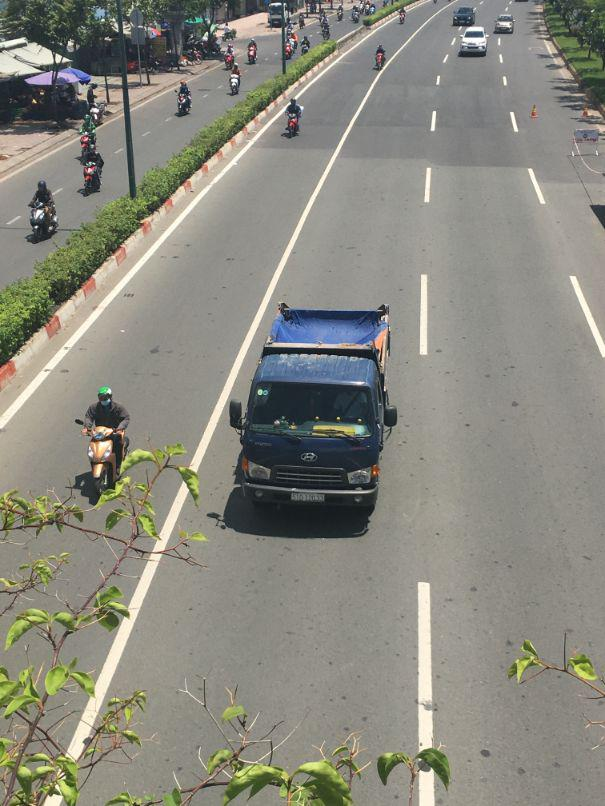car: (460, 27, 489, 58), (452, 8, 474, 27), (494, 15, 513, 35)
motorbike: (76, 145, 103, 197), (27, 203, 59, 243), (284, 103, 304, 138), (228, 69, 240, 95), (248, 42, 257, 66)
truck: (234, 304, 393, 534)
